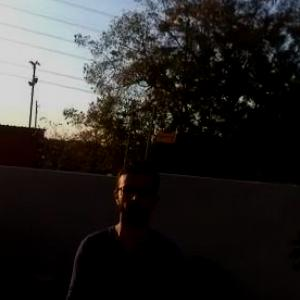follow: (56, 150, 189, 299)
